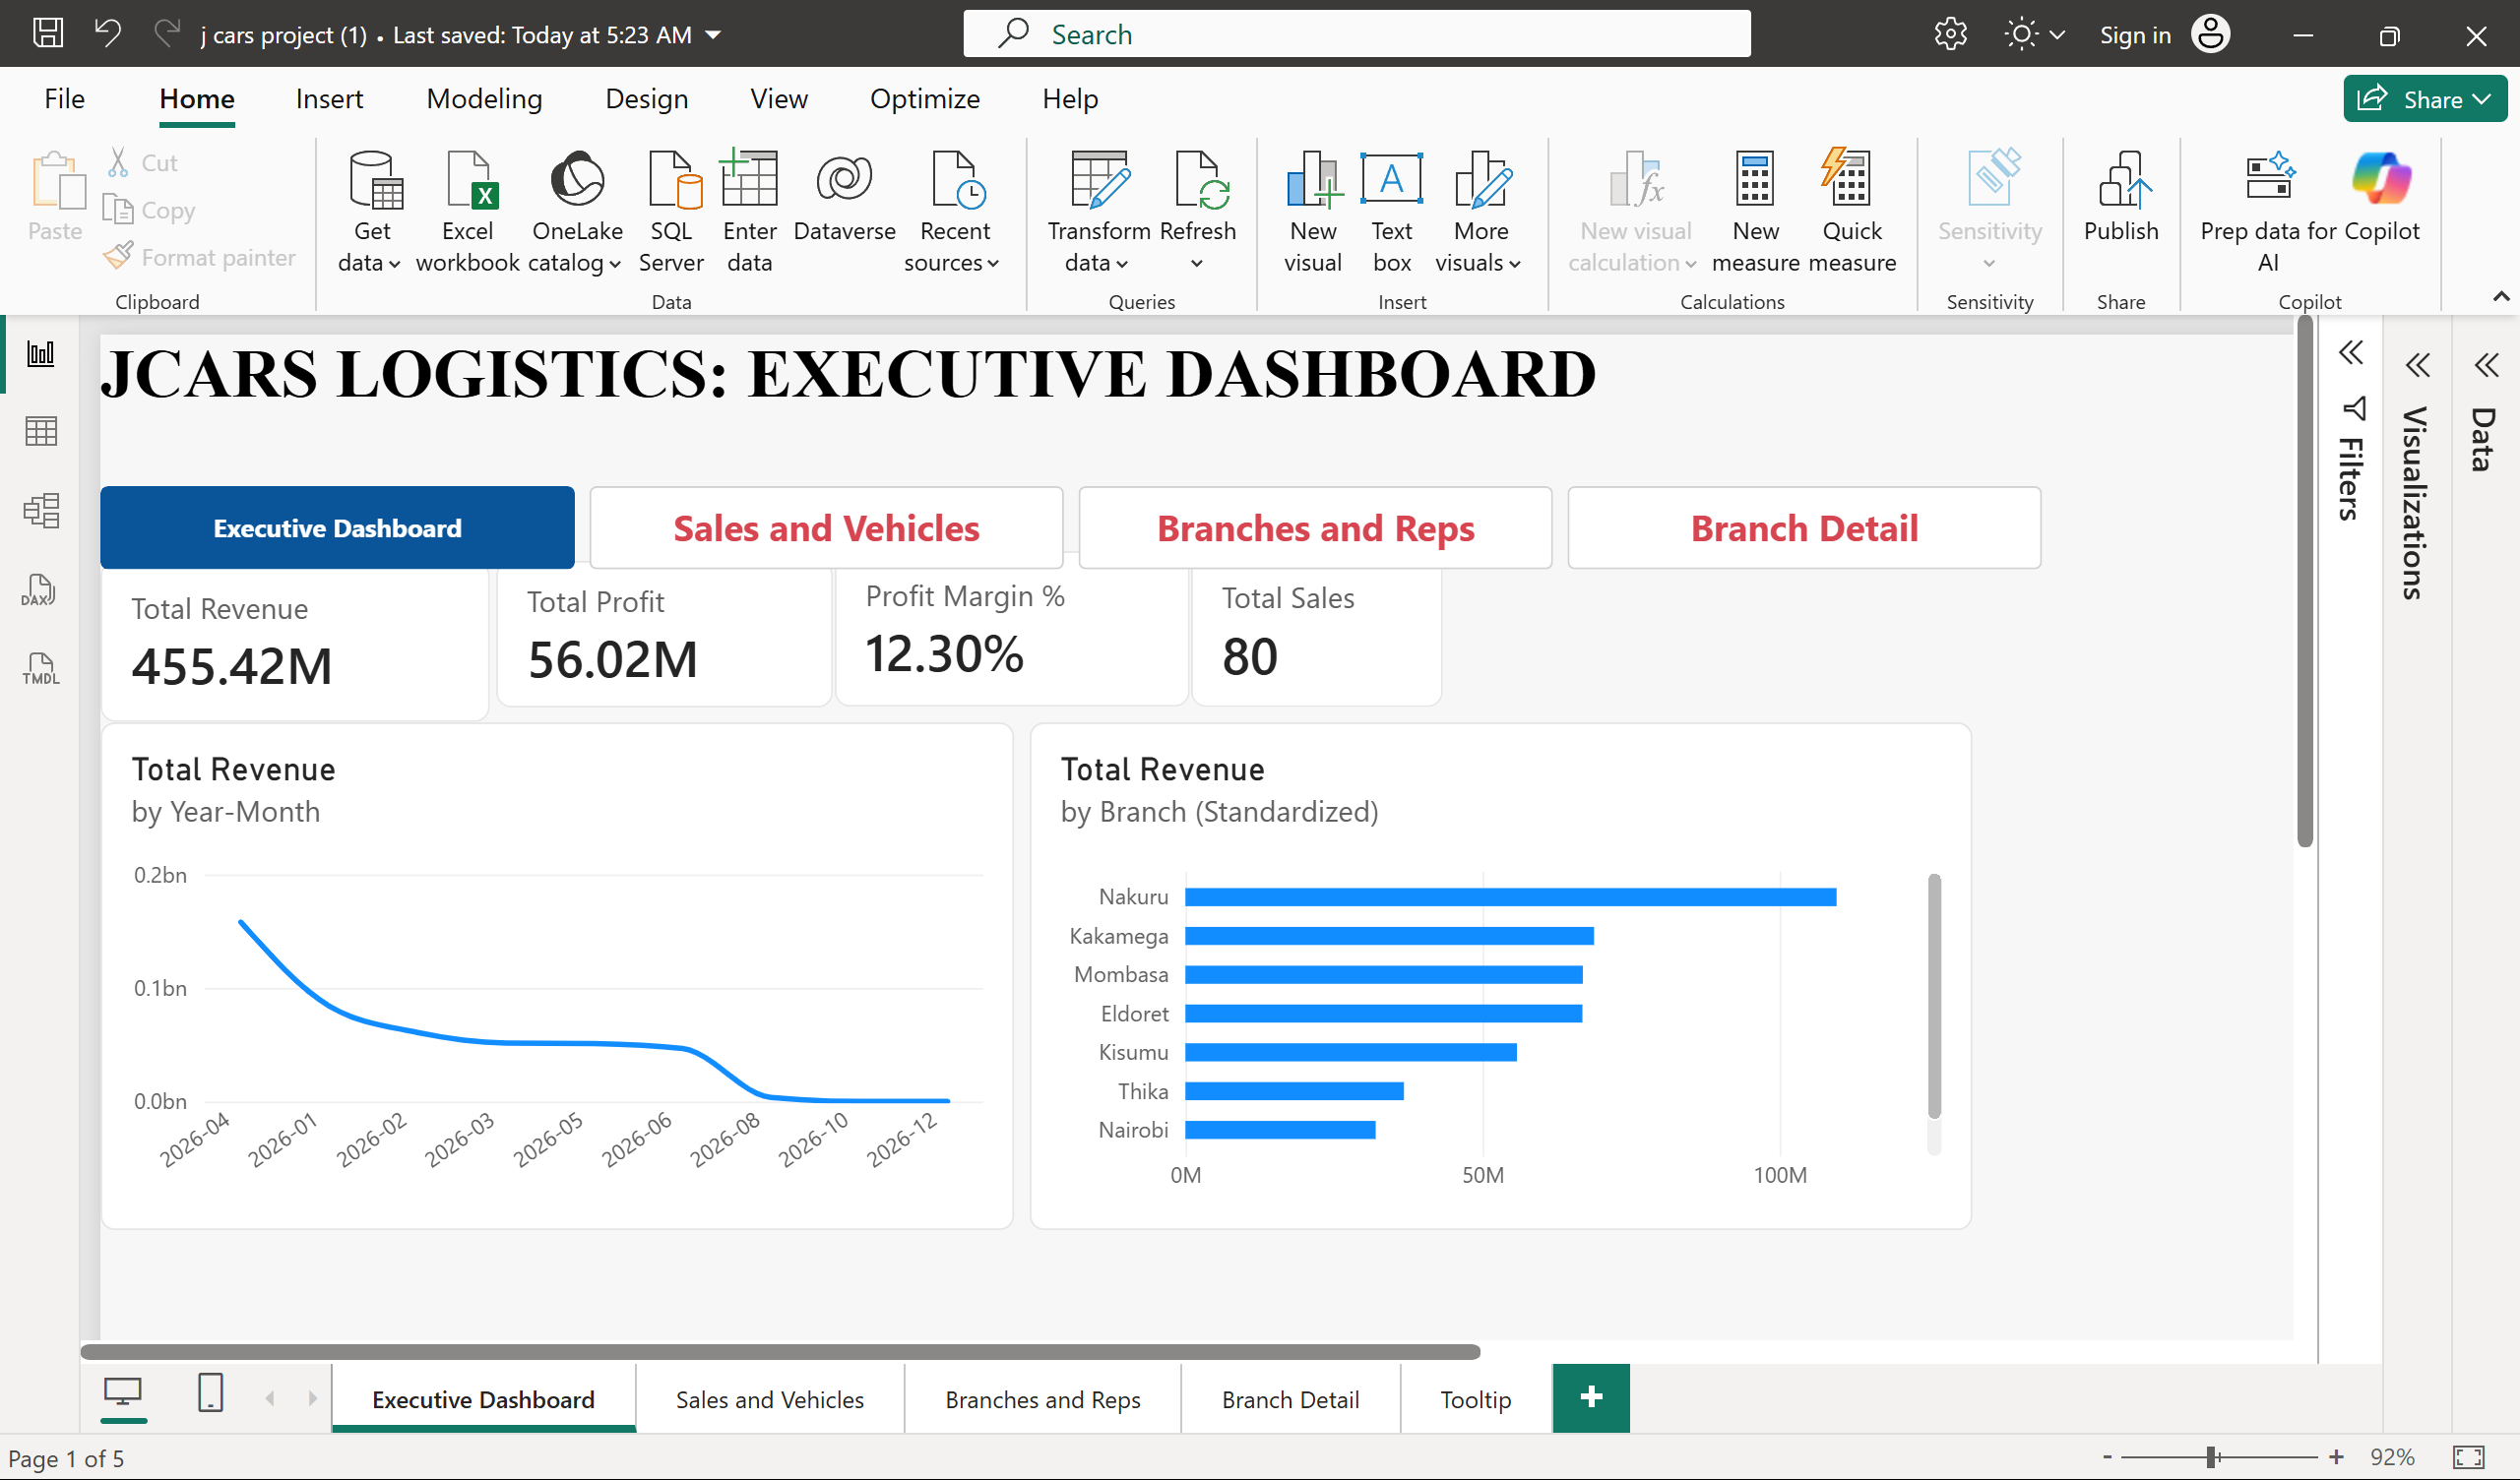

The dashboard page shown, as its layout file describes it:
{"tool":"powerbi","page":{"name":"Executive Dashboard","canvas":[1920,1080],"ordinal":0},"visuals":[{"type":"cardVisual","fields":{"Data":["DimBranch.Total Revenue"]},"box":[0,125,215.2,89.1],"z":0},{"type":"cardVisual","fields":{"Data":["Jcars_data.Total Profit"]},"box":[218.5,125,187,81.5],"z":1},{"type":"cardVisual","fields":{"Data":["DimBranch.Profit Margin %"]},"box":[405.4,119.6,196.7,87],"z":2},{"type":"cardVisual","fields":{"Data":["DimBranch.Total Sales"]},"box":[602.2,121.7,139.1,84.8],"z":3},{"type":"lineChart","fields":{"Category":["DimOrderDate.Year-Month"],"Y":["DimBranch.Total Revenue"]},"box":[0,214.1,504.3,280.4],"z":4},{"type":"clusteredBarChart","fields":{"Category":["DimBranch.Branch (Standardized)"],"Y":["DimBranch.Total Revenue"]},"box":[513,214.1,520.7,280.4],"z":5},{"type":"advancedSlicerVisual","fields":{"Values":["DimOrderDate.Year"]},"box":[13.1,869.4,236.4,176],"z":6},{"type":"textbox","box":[292,580,280,280],"z":8},{"type":"textbox","box":[573,580,280,280],"z":11},{"type":"textbox","box":[0,0,935.9,53.3],"z":12},{"type":"pageNavigator","box":[0,83.7,1075,46.7],"z":13}]}

Visuals, with their boxes on the page's 1920x1080 design canvas (x1, y1, x2, y2). These are canvas units, not pixel positions in the 2520x1480 screenshot, which may show the page scaled, cropped or inside an application window:
cardVisual - DimBranch.Total Revenue: x1=0 y1=125 x2=215 y2=214
cardVisual - Jcars_data.Total Profit: x1=218 y1=125 x2=406 y2=206
cardVisual - DimBranch.Profit Margin %: x1=405 y1=120 x2=602 y2=207
cardVisual - DimBranch.Total Sales: x1=602 y1=122 x2=741 y2=206
lineChart - DimOrderDate.Year-Month x DimBranch.Total Revenue: x1=0 y1=214 x2=504 y2=494
clusteredBarChart - DimBranch.Branch (Standardized) x DimBranch.Total Revenue: x1=513 y1=214 x2=1034 y2=494
advancedSlicerVisual - DimOrderDate.Year: x1=13 y1=869 x2=250 y2=1045
textbox: x1=292 y1=580 x2=572 y2=860
textbox: x1=573 y1=580 x2=853 y2=860
textbox: x1=0 y1=0 x2=936 y2=53
pageNavigator: x1=0 y1=84 x2=1075 y2=130
